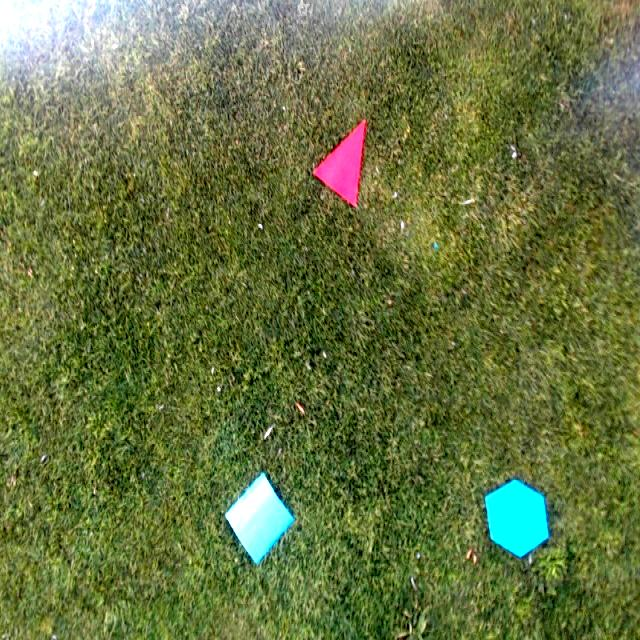blue_hexagon: (484, 478, 549, 558)
blue_square: (224, 472, 294, 565)
red_triangle: (313, 119, 367, 208)
